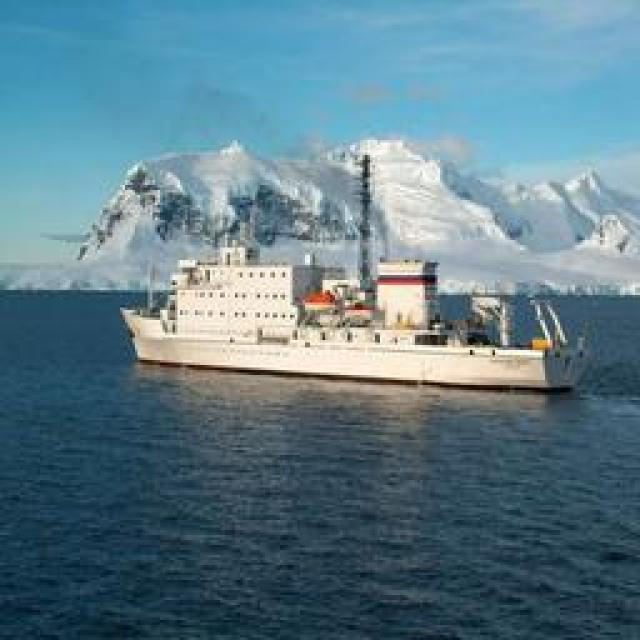ship2: (120, 155, 574, 395)
